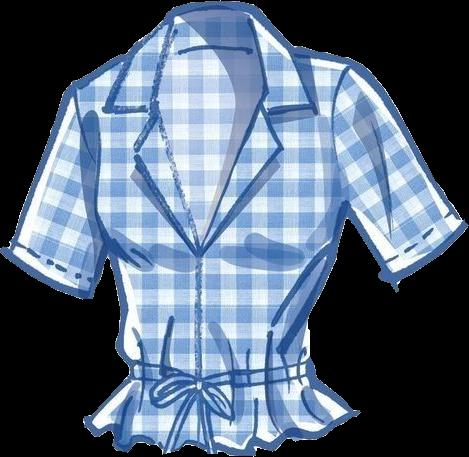Bodice: (74, 1, 359, 456)
Neckline: (153, 5, 269, 258), (128, 368, 318, 389)
Sleeve: (335, 61, 468, 286), (0, 77, 107, 298)
Sleeveline: (73, 79, 102, 232), (331, 60, 355, 219)
Waistline: (102, 45, 310, 261), (81, 411, 359, 456)
